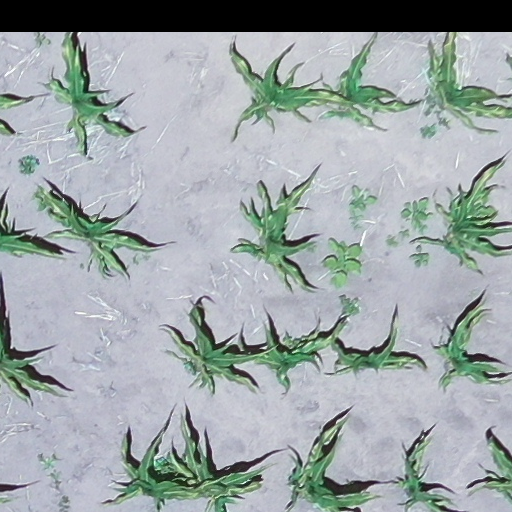planta: (229, 36, 354, 143), (40, 32, 142, 153), (37, 188, 164, 285), (227, 165, 320, 294), (158, 304, 279, 399), (319, 35, 421, 130), (237, 321, 346, 394), (321, 308, 428, 379)
